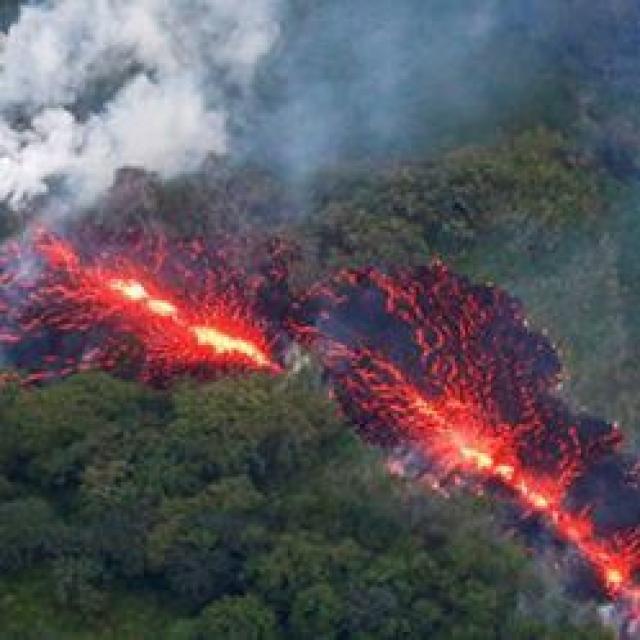Fire: (450, 436, 532, 502), (184, 314, 274, 368), (96, 272, 196, 320), (598, 558, 636, 596)
Smoke: (21, 3, 514, 180)
